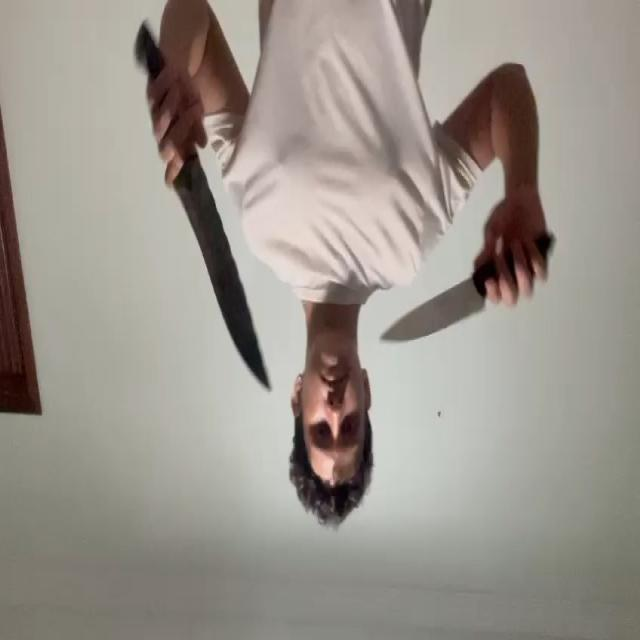knife: (176, 177, 269, 392), (380, 278, 480, 343)
